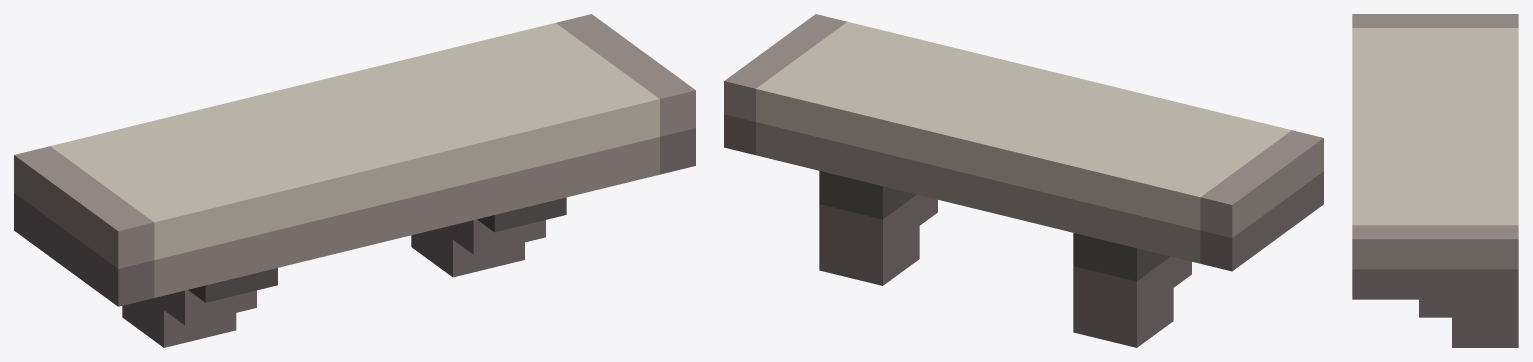
The model's file is shelf-stone.glb.
3 views of the same model, side by side, from view 1: azimuth 30°, elevation 25°; view 2: azimuth 150°, elevation 25°; view 3: azimuth 270°, elevation 25° (orthographic). The views are drawn at different scales.
Visible parts, largest first — view 1: generated(Clone); view 2: generated(Clone); view 3: generated(Clone).
Boxes of the visible parts, box(x1,y1,x2,y2) form: generated(Clone): box(14, 14, 695, 347); generated(Clone): box(724, 14, 1323, 347); generated(Clone): box(1352, 14, 1518, 347).
Size of the model in its own units: 16 by 5 by 5.
1 material, 1 textured.
